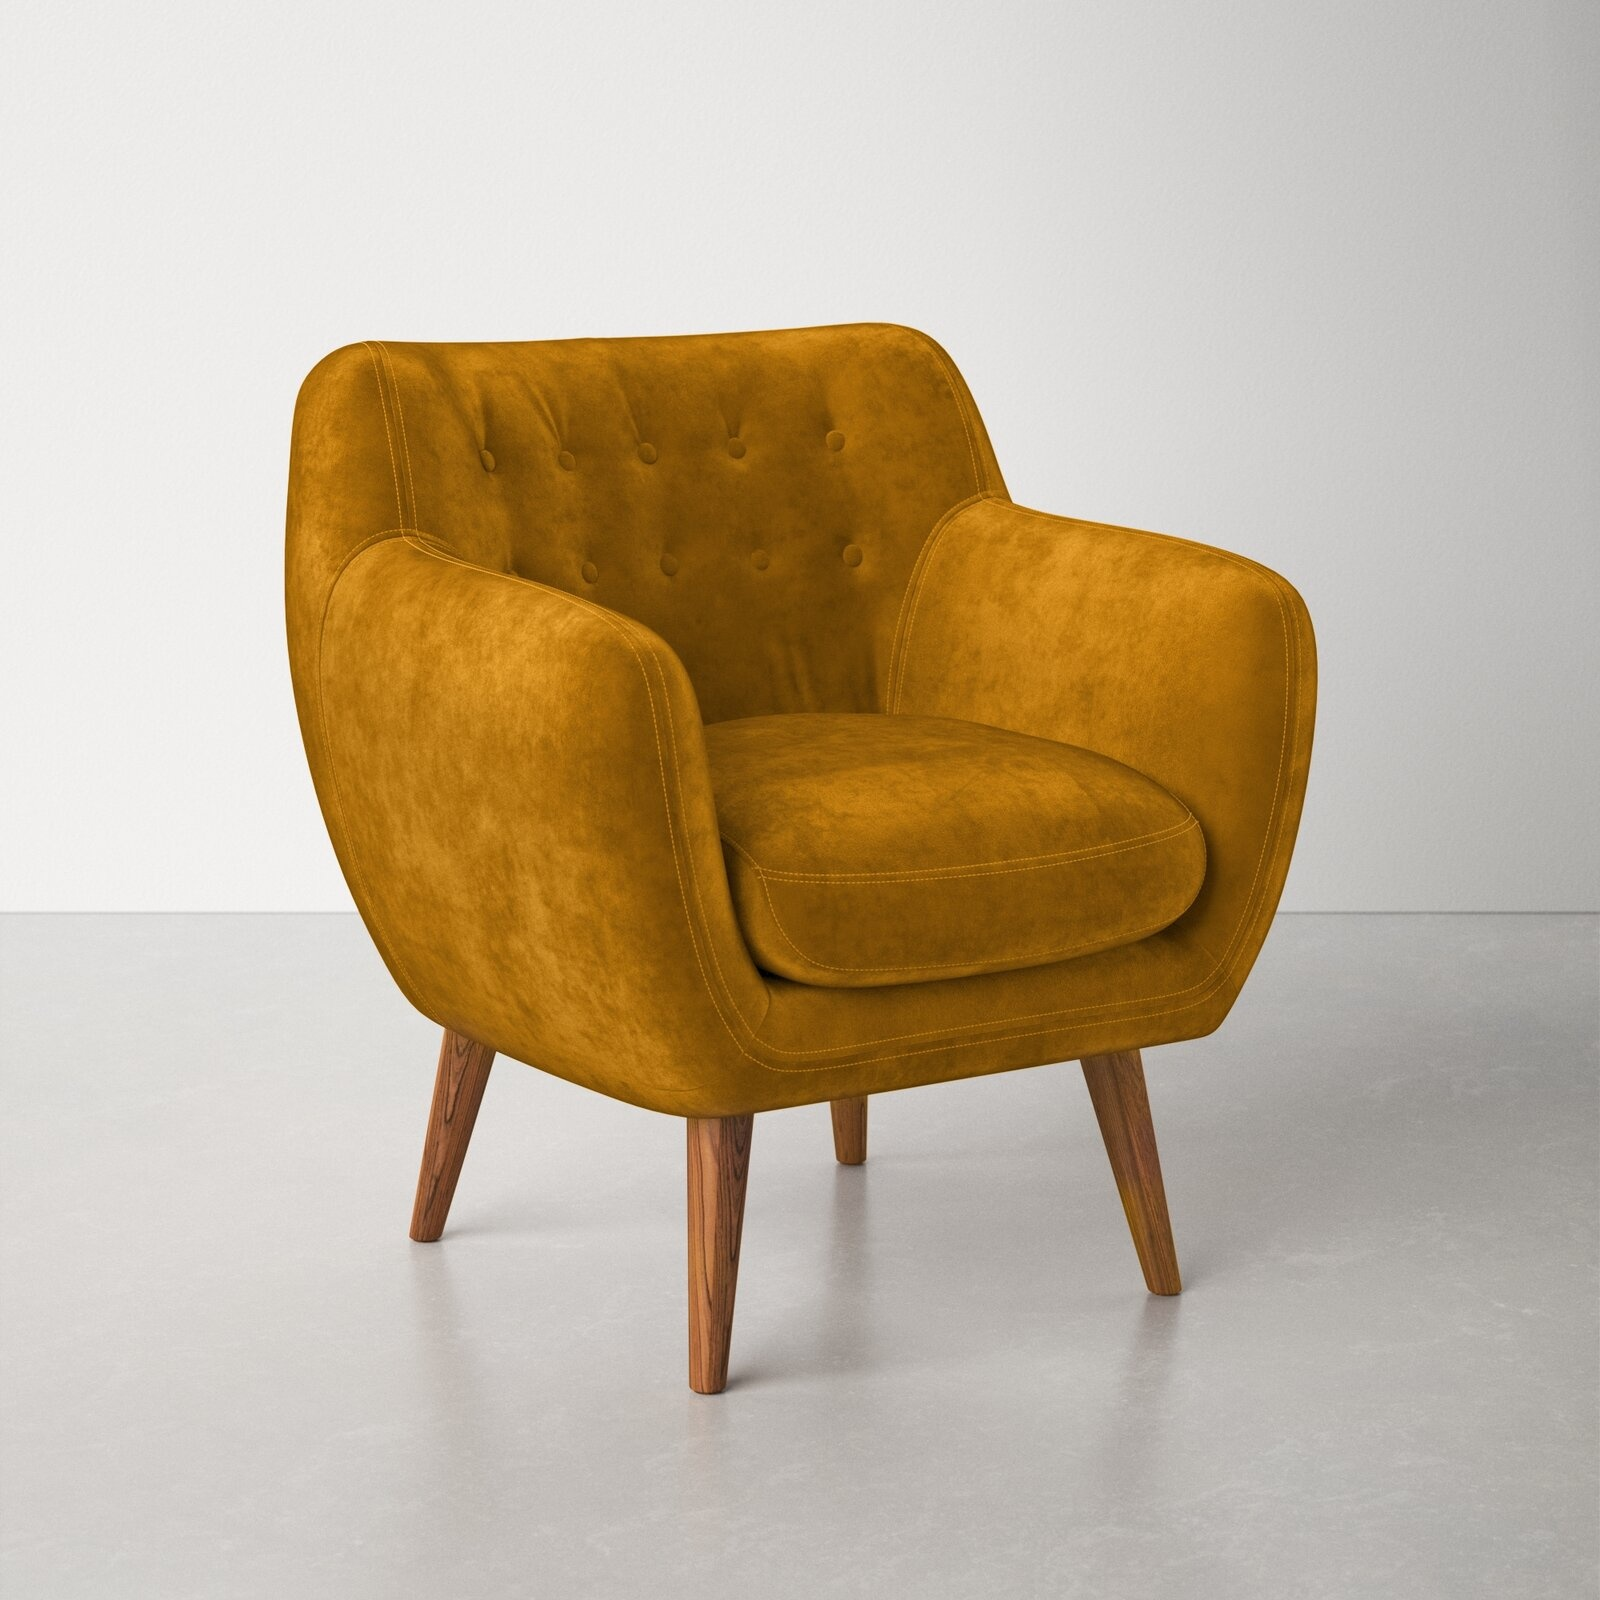obstacle: (287, 325, 1314, 1390)
